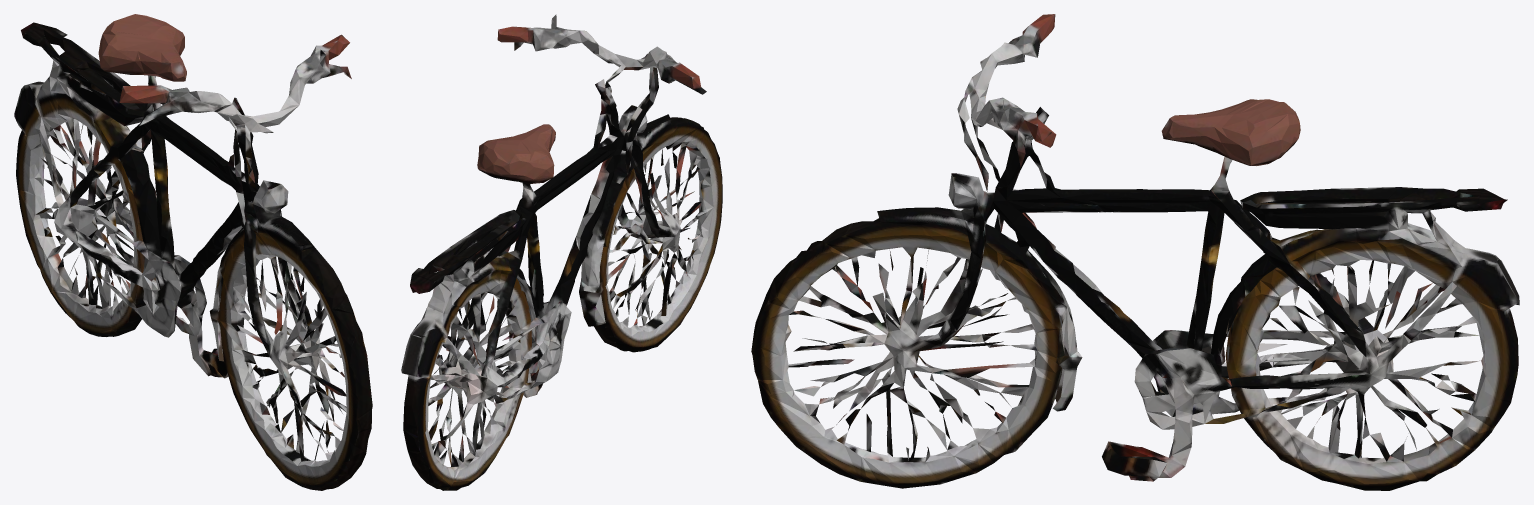
The model's file is bj89_bicycle_28.glb.
3 views of the same model, side by side, from view 1: azimuth 30°, elevation 25°; view 2: azimuth 150°, elevation 25°; view 3: azimuth 270°, elevation 25° (orthographic). The views are drawn at different scales.
Parts seen in each view (by area): view 1: bj89_bicycle_28_tex; view 2: bj89_bicycle_28_tex; view 3: bj89_bicycle_28_tex.
Boxes of the visible parts, box(x1,y1,x2,y2) form: bj89_bicycle_28_tex: box(14, 14, 372, 490); bj89_bicycle_28_tex: box(401, 14, 722, 490); bj89_bicycle_28_tex: box(751, 14, 1519, 490).
Size of the model in its own units: 0.6695 by 1.08 by 1.75.
1 material, 1 textured.
